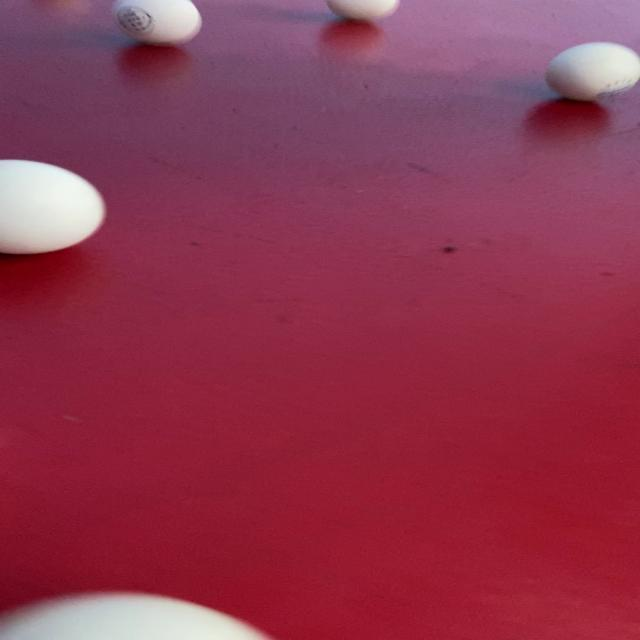ping-pong-ball: (0, 570, 294, 640), (0, 156, 133, 266), (531, 32, 640, 111), (89, 0, 236, 57), (316, 0, 425, 32)
